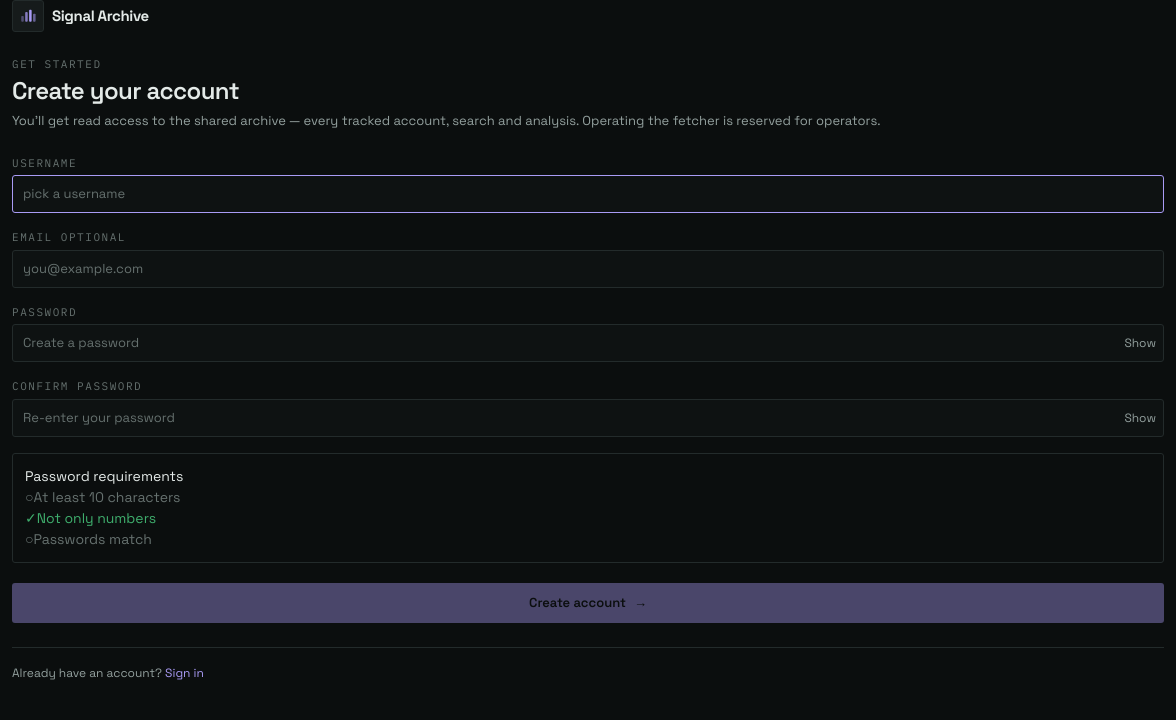
Test: Signup form › puts the server's per-field rejection next to the field it names
The image size is (1176, 720).
In the field labelled "Username": (588, 194) left=12, top=175, right=1164, bottom=213, type "carol"
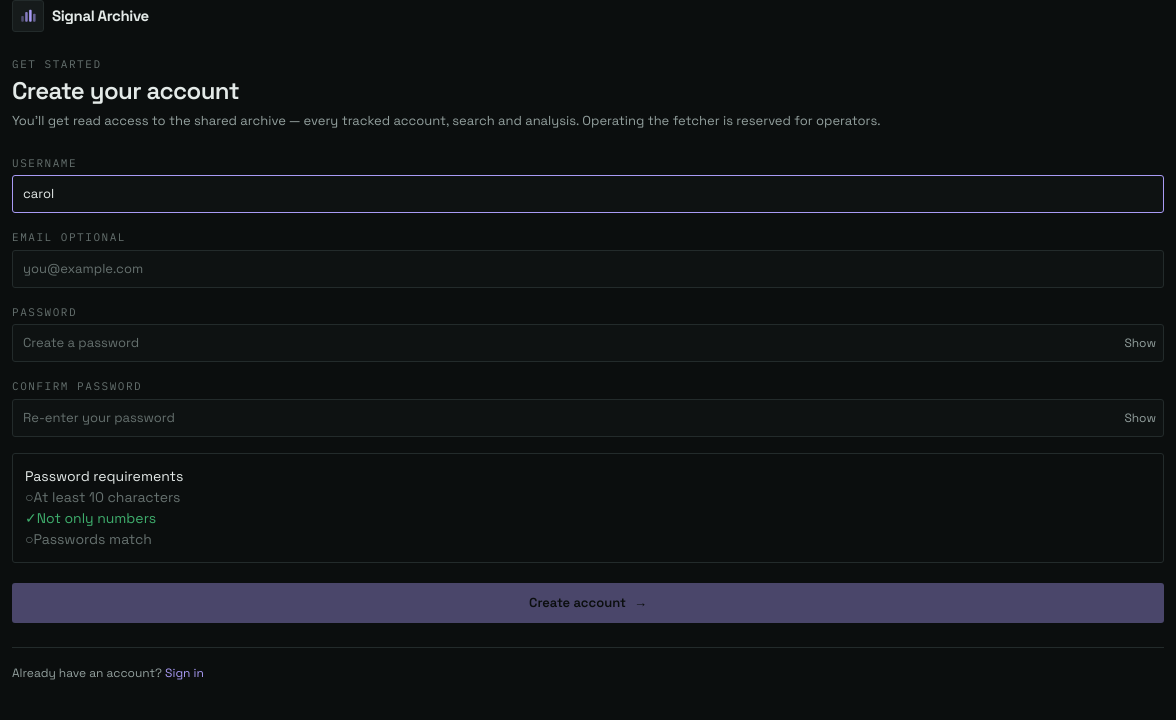
In the password field labelled "Password": (588, 343) left=12, top=324, right=1164, bottom=362, type "Correct-Horse-9"
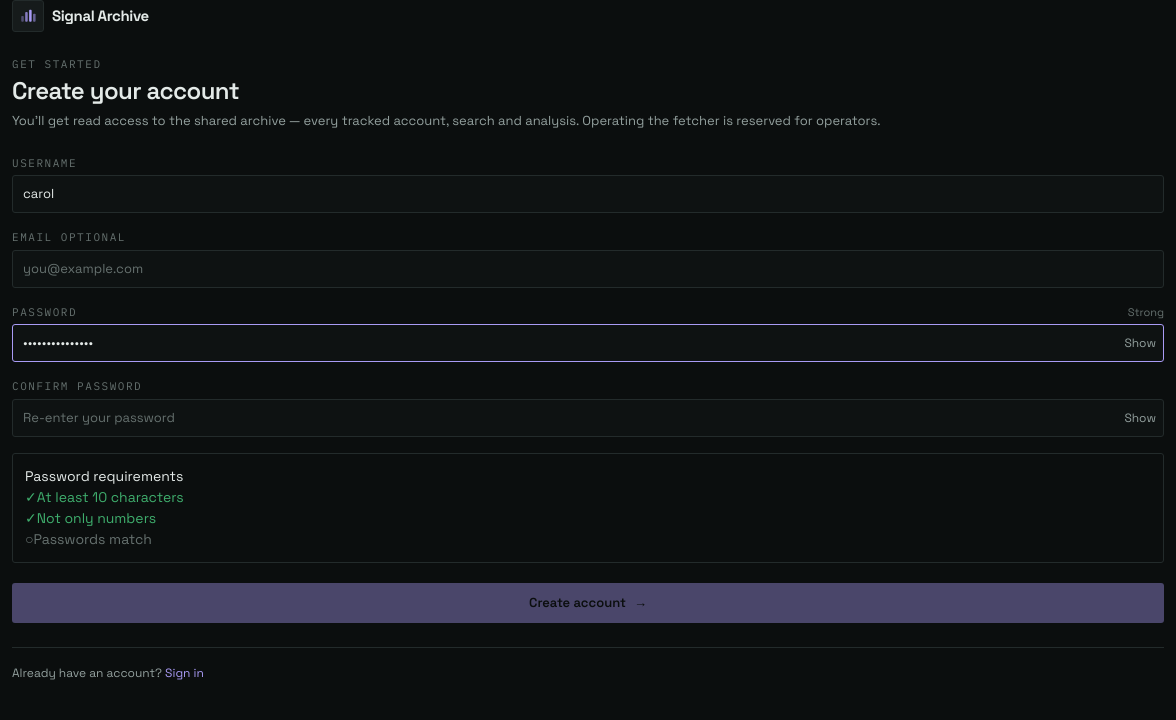
In the password field labelled "Confirm password": (588, 418) left=12, top=398, right=1164, bottom=436, type "Correct-Horse-9"
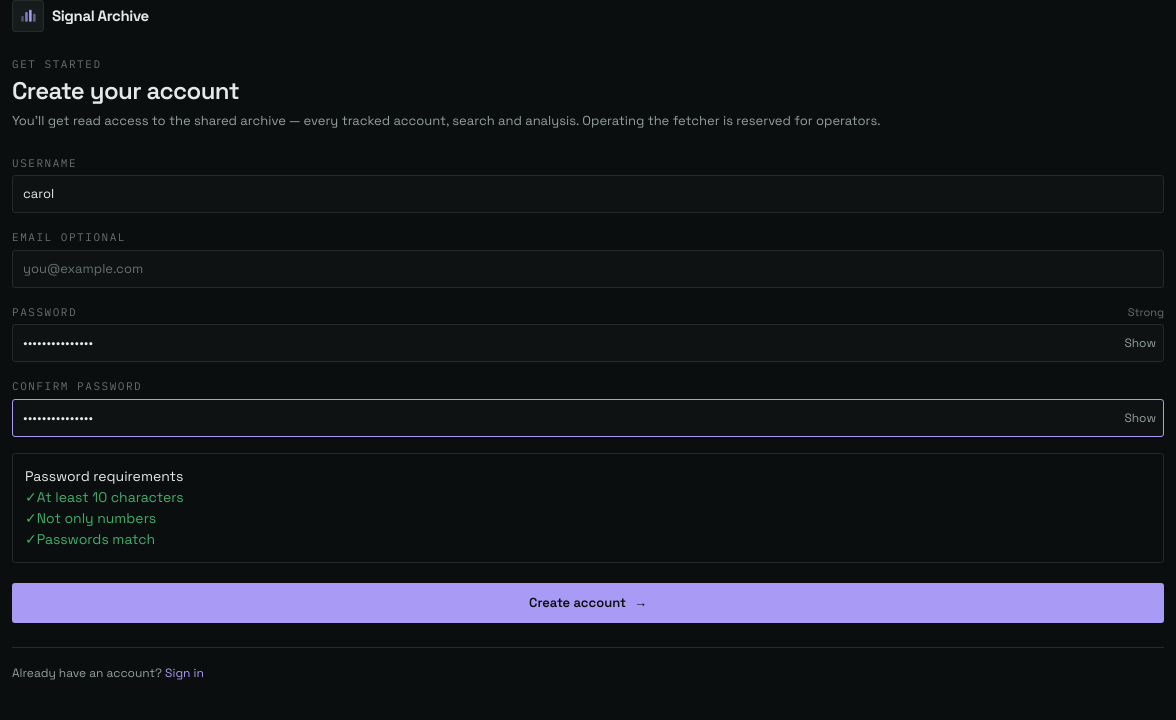
Click the button "Create account →": (588, 602) left=12, top=582, right=1164, bottom=622
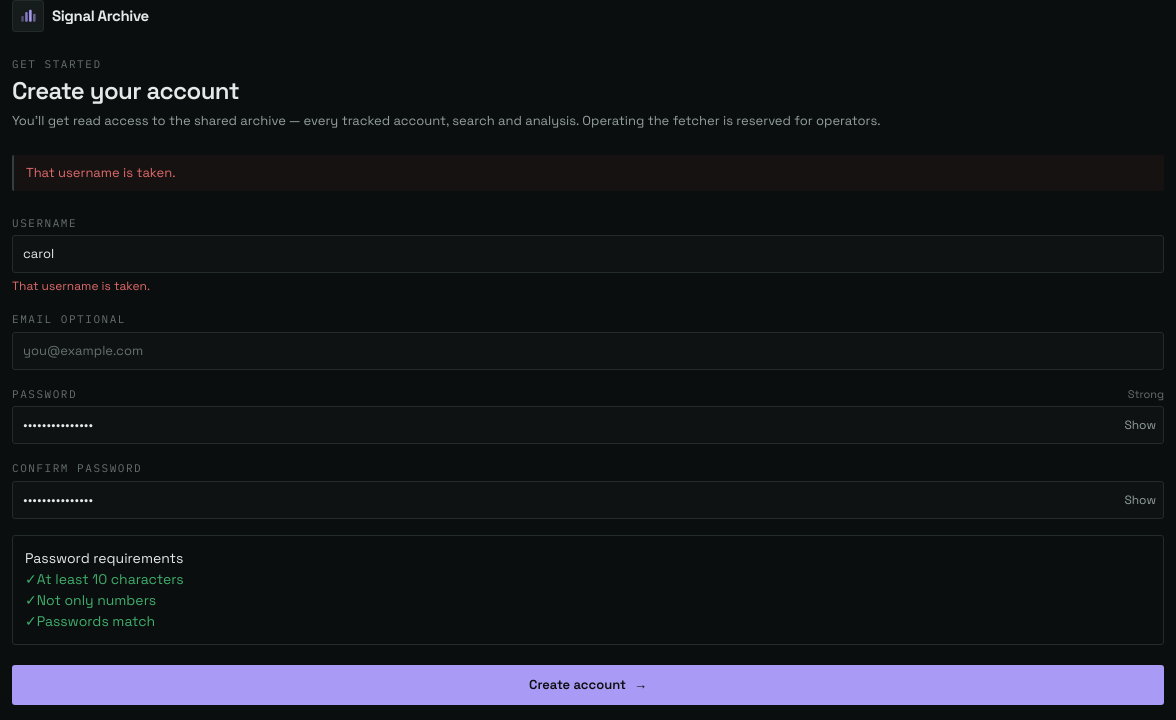
Expected: the message reads "That username is taken.", left=26, top=164, right=176, bottom=180
Expected: the text "That username is taken." is shown 2 times, left=12, top=154, right=1164, bottom=190; left=12, top=278, right=150, bottom=294
